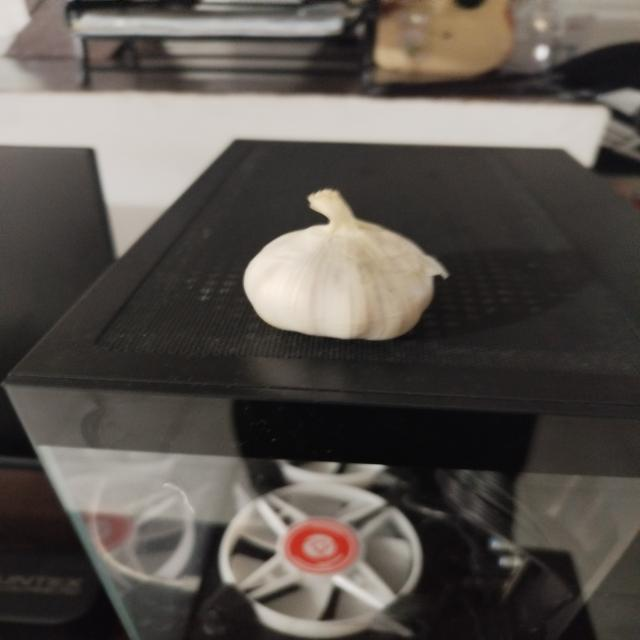garlic: (242, 187, 449, 341)
